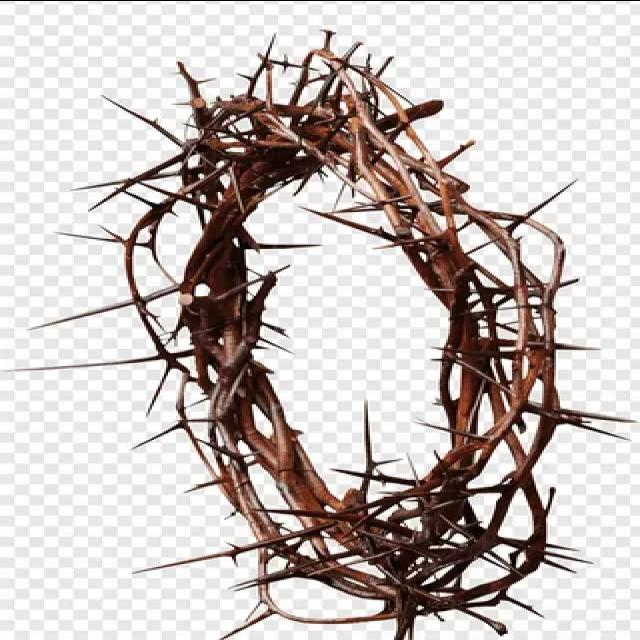crown: (135, 50, 610, 630)
